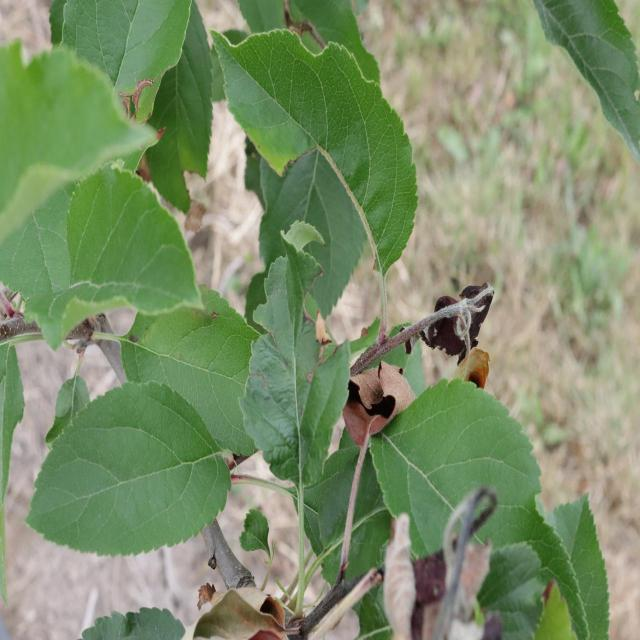-FireBlight-: (339, 349, 410, 430), (434, 294, 495, 380)
